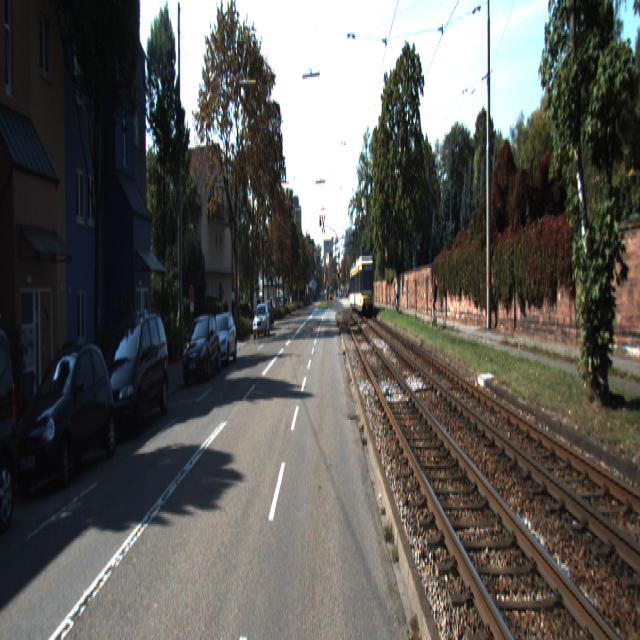Car: (13, 336, 120, 493), (94, 308, 171, 441), (0, 313, 27, 542), (182, 311, 220, 385), (207, 312, 237, 371), (350, 255, 374, 318), (253, 303, 270, 342)
